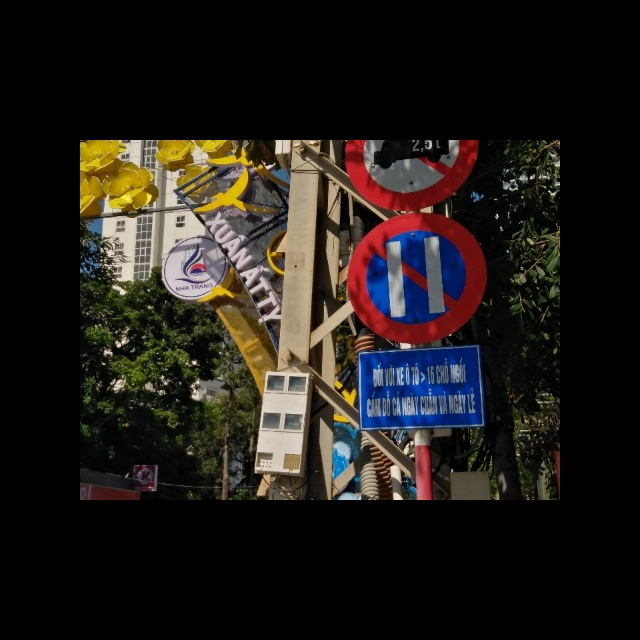Cấm xe tải: (338, 140, 482, 211)
Cấm đỗ xe ngày chẵn: (344, 212, 490, 342)
